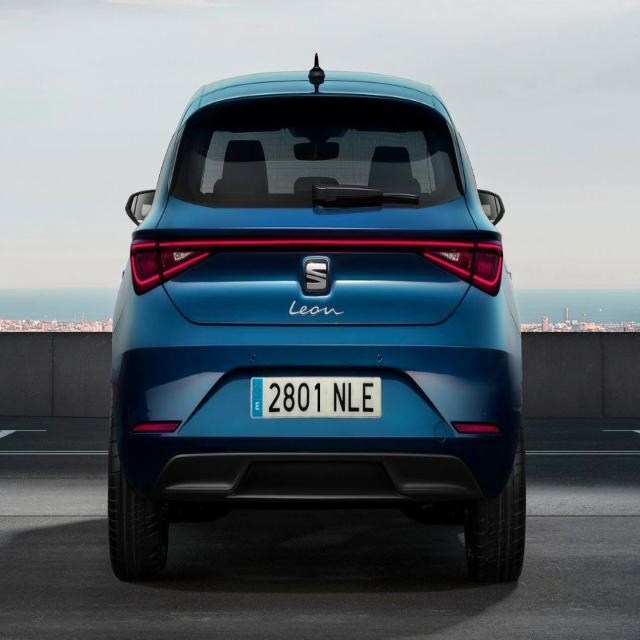football: (252, 376, 381, 420)
